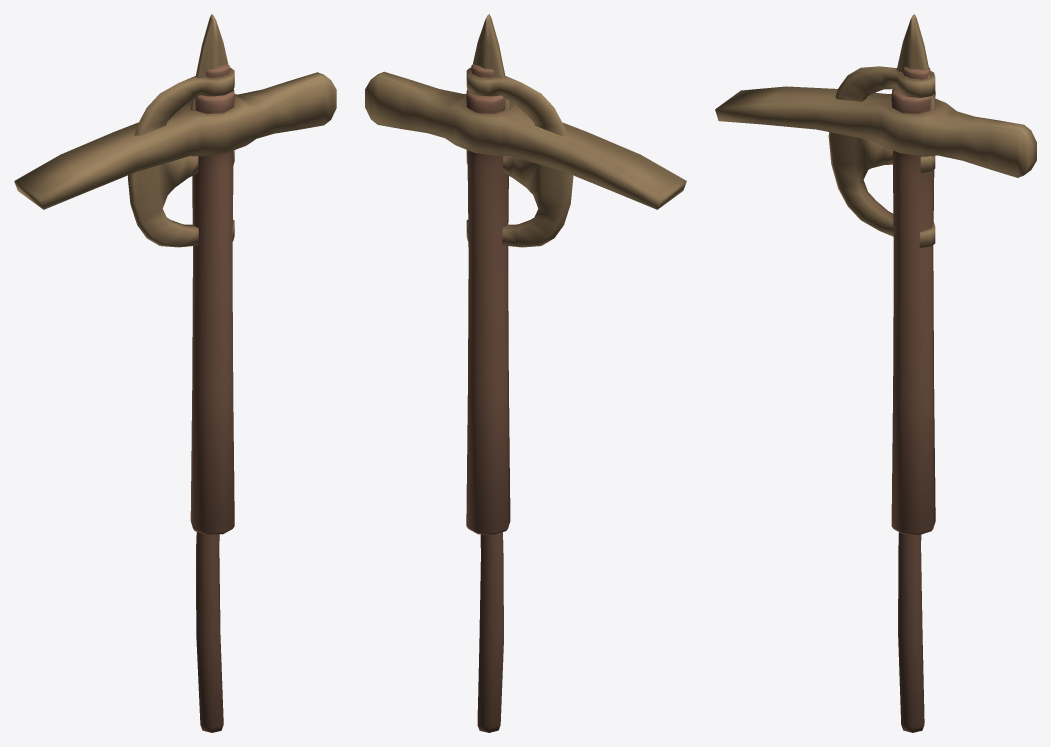
The model's file is bronzeTools_mesh.fbx.
The picture shows the model from 3 angles, left to right: view 1: azimuth 30°, elevation 25°; view 2: azimuth 150°, elevation 25°; view 3: azimuth 330°, elevation 25°; orthographic projection.
Parts seen in each view (by area): view 1: bronzePaxe_low, bronzeAxe_low, bronzeSpear_low; view 2: bronzePaxe_low, bronzeAxe_low, bronzeSpear_low; view 3: bronzePaxe_low, bronzeAxe_low, bronzeSpear_low.
Boxes of the visible parts, x1,y1,x2,y2 form: bronzePaxe_low: (14, 72, 336, 534); bronzeAxe_low: (127, 64, 234, 247); bronzeSpear_low: (190, 14, 234, 732); bronzePaxe_low: (365, 71, 686, 534); bronzeAxe_low: (466, 64, 573, 247); bronzeSpear_low: (466, 14, 510, 732); bronzePaxe_low: (715, 86, 1036, 535); bronzeAxe_low: (828, 66, 935, 247); bronzeSpear_low: (891, 14, 935, 732).
Bounding box in the file's own units: 58.38 × 131 × 9.11.
1 material, 1 textured.
